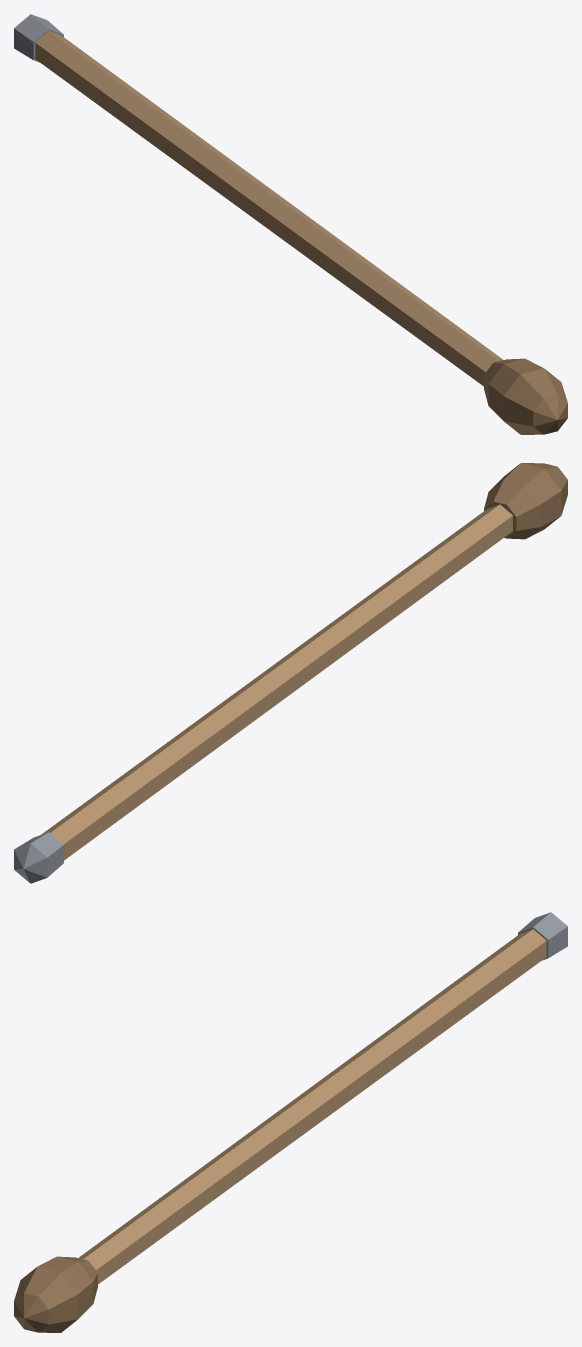
Rendered from apprenticestaff.glb.
3 renders of one model, top to bottom at view 1: azimuth 30°, elevation 25°; view 2: azimuth 150°, elevation 25°; view 3: azimuth 330°, elevation 25°, orthographic.
Visible parts, largest first — view 1: apprenticestaff; view 2: apprenticestaff; view 3: apprenticestaff.
Boxes of the visible parts, bbox=[...] form: apprenticestaff: bbox=[14, 14, 567, 434]; apprenticestaff: bbox=[14, 463, 567, 883]; apprenticestaff: bbox=[14, 912, 567, 1332].
Size of the model in its own units: 0.0924 by 0.0924 by 1.48.
